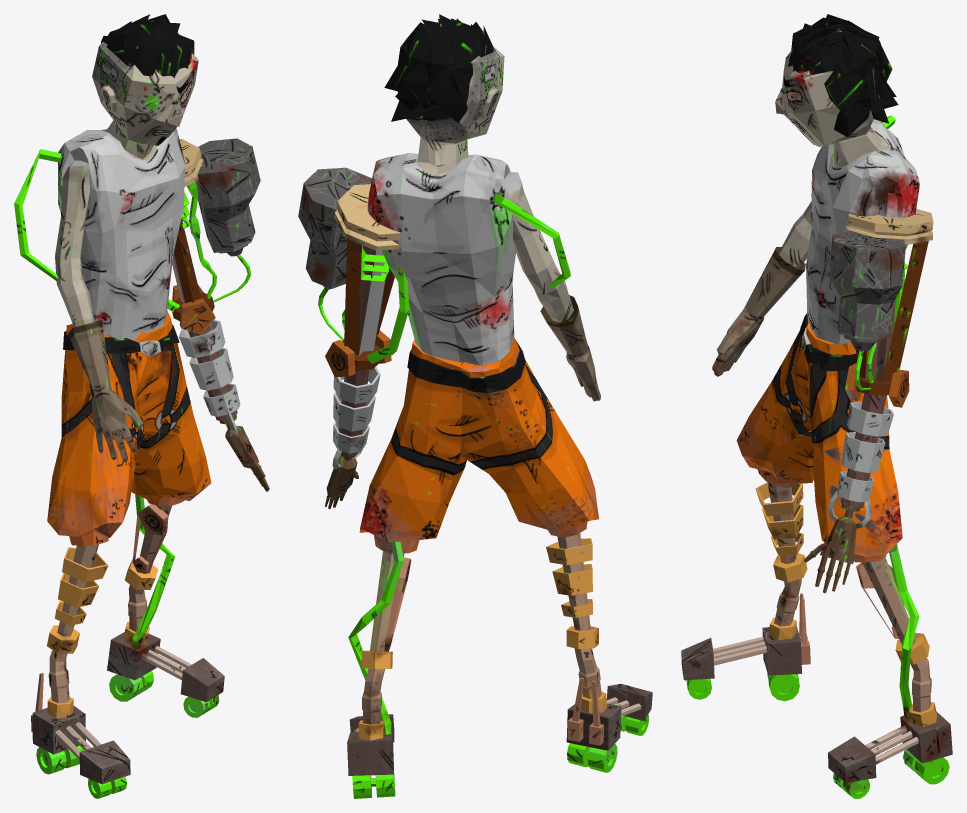
The model's file is CyborgFINALAnimation_000158.obj.
3 views of the same model, side by side, from view 1: azimuth 30°, elevation 25°; view 2: azimuth 150°, elevation 25°; view 3: azimuth 270°, elevation 25° (orthographic). The views are drawn at different scales.
Parts seen in each view (by area): view 1: CyborgMesh_Cube.002; view 2: CyborgMesh_Cube.002; view 3: CyborgMesh_Cube.002.
Boxes of the visible parts, x1,y1,x2,y2 form: CyborgMesh_Cube.002: (14,14,269,798); CyborgMesh_Cube.002: (298,14,652,798); CyborgMesh_Cube.002: (681,14,952,798).
Size of the model in its own units: 3.61 by 9.67 by 3.21.
